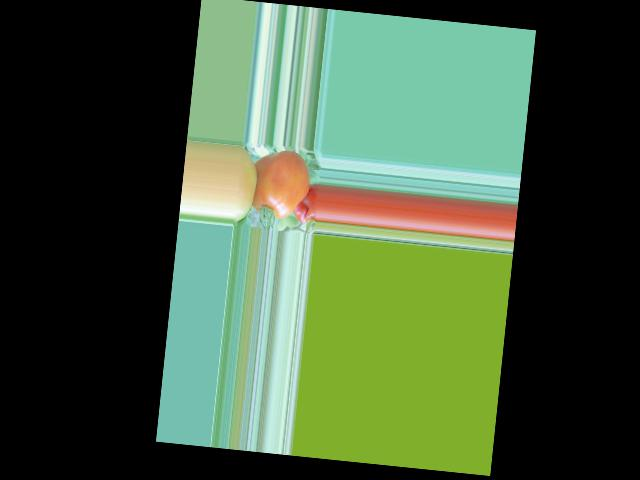tomato: (252, 147, 312, 221)
